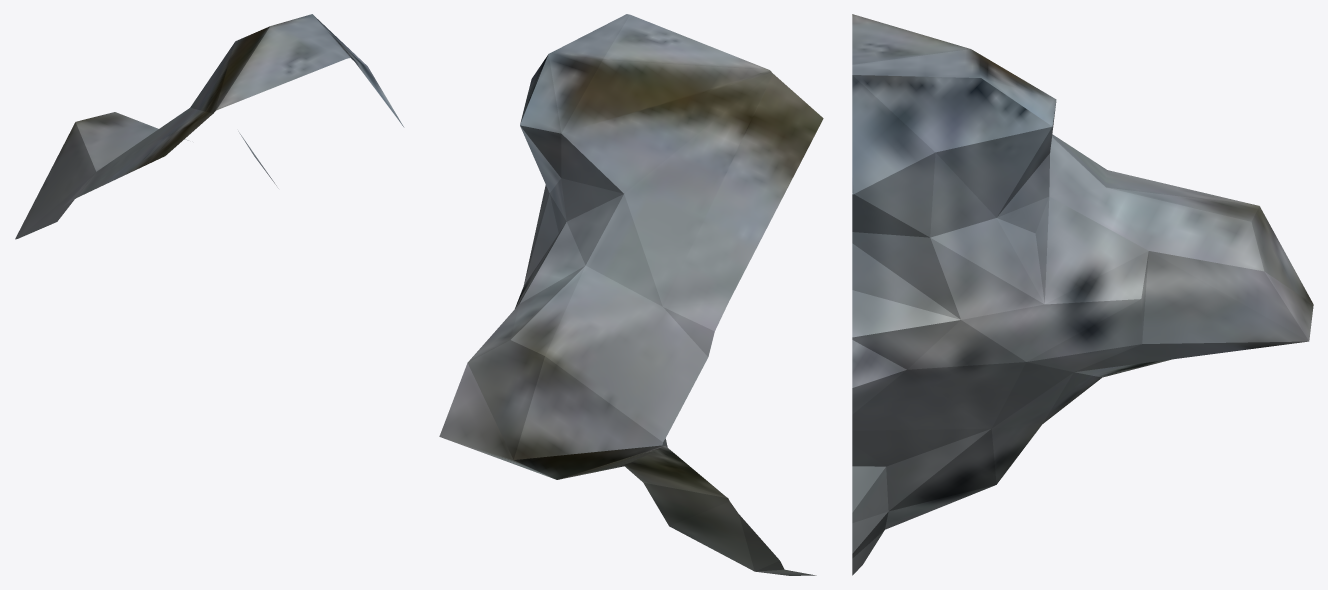
3 renders of one model, left to right at view 1: azimuth 30°, elevation 25°; view 2: azimuth 150°, elevation 25°; view 3: azimuth 270°, elevation 25°, orthographic. The views are drawn at different scales.
Size of the model in its own units: 0.2739 by 0.511 by 0.3851.
Materials: 1 (1 with a texture image).
